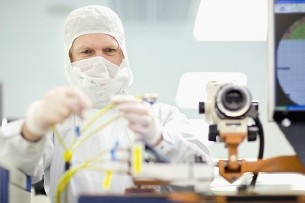Mask: (65, 38, 123, 97)
